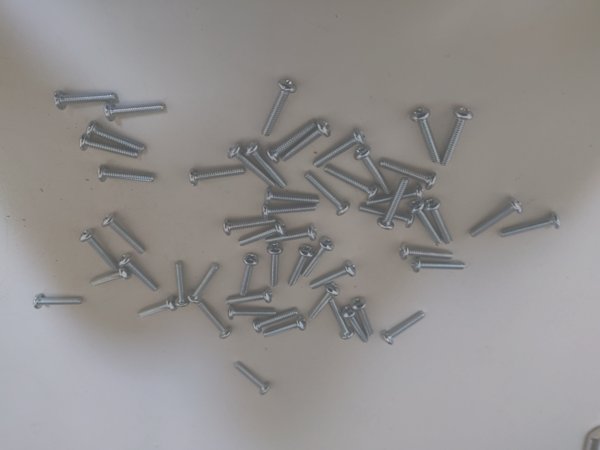longscrew: (440, 106, 479, 167), (313, 123, 361, 170), (78, 224, 122, 273), (270, 117, 320, 159), (470, 199, 522, 239), (247, 142, 293, 187), (264, 76, 296, 139), (228, 145, 277, 186), (303, 173, 348, 217), (106, 213, 149, 259), (372, 177, 409, 230), (498, 212, 561, 243), (87, 122, 147, 154), (382, 159, 437, 193), (325, 166, 381, 199), (284, 124, 328, 165), (412, 106, 444, 162), (355, 146, 392, 193), (119, 254, 160, 293), (357, 205, 414, 233), (378, 312, 427, 344), (95, 163, 159, 187), (77, 134, 141, 158), (104, 98, 168, 122), (51, 86, 115, 110), (410, 202, 444, 246), (189, 166, 249, 190), (303, 238, 336, 281), (285, 245, 318, 288), (427, 196, 455, 245), (310, 262, 356, 291), (310, 282, 338, 329), (363, 186, 425, 207), (201, 304, 236, 341), (233, 363, 272, 396), (190, 265, 219, 307), (240, 222, 285, 247), (221, 214, 277, 234), (351, 296, 376, 340), (342, 305, 367, 349), (328, 300, 353, 344), (229, 288, 272, 312), (268, 225, 317, 246), (413, 259, 467, 278), (265, 244, 288, 288), (234, 254, 257, 298), (255, 309, 297, 333), (262, 318, 305, 341), (265, 190, 322, 207), (229, 305, 271, 328), (398, 246, 451, 263), (34, 295, 84, 312), (134, 299, 178, 318), (259, 204, 319, 217), (83, 273, 134, 285), (176, 257, 183, 306)
